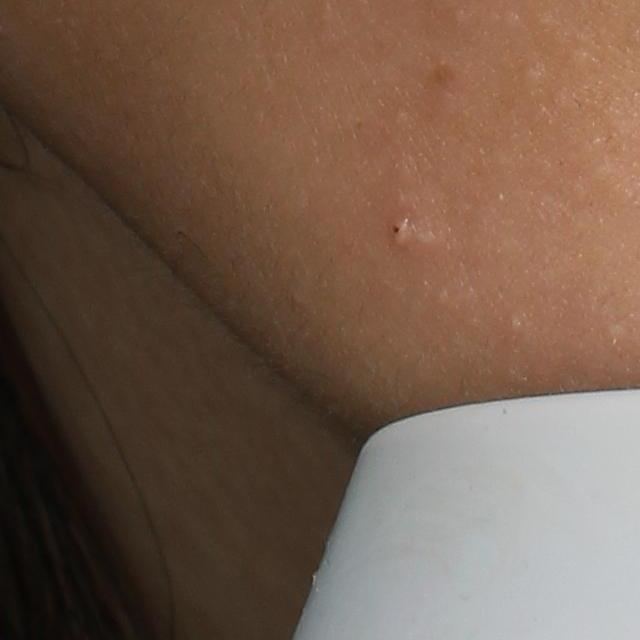comedo: (502, 315, 526, 334)
